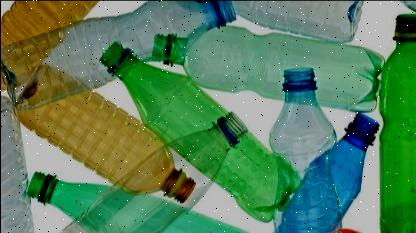Plastic Bottle: (95, 38, 301, 224), (10, 62, 197, 204), (0, 0, 237, 110), (22, 166, 254, 233), (270, 112, 380, 233), (374, 9, 416, 233)
